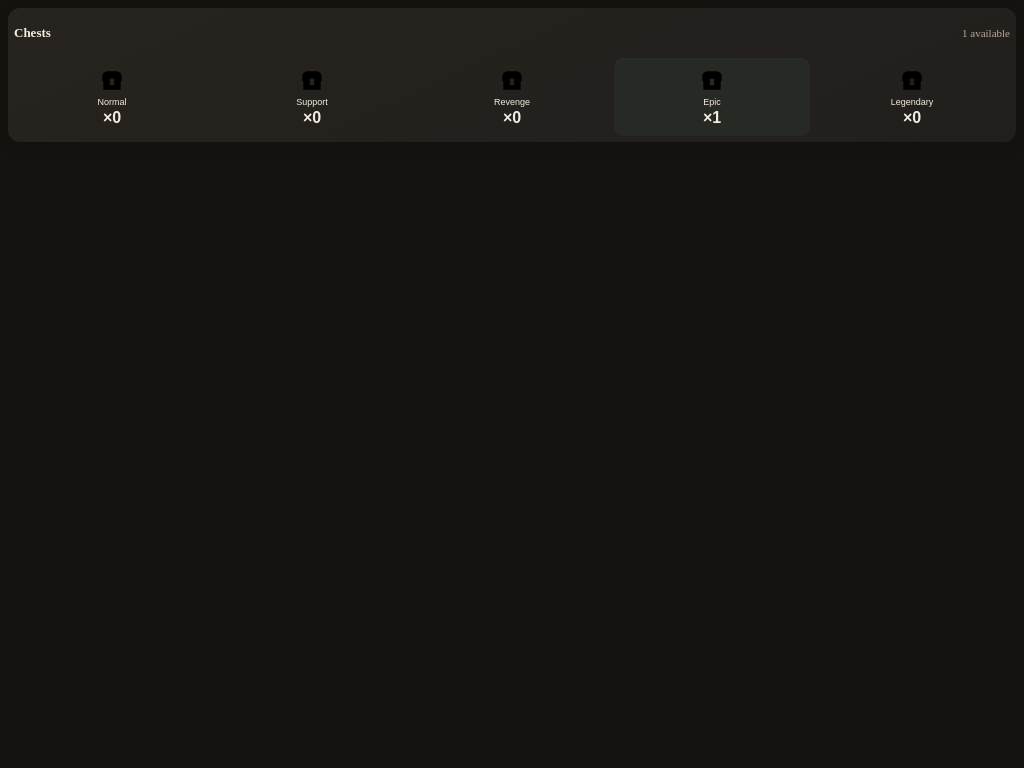
Test: opening failures are retryable and do not consume or hide the chest
This screenshot has width=1024, height=768.
Click the button named "Epic chest, 1 available" at (712, 97), box [614,58,810,136]
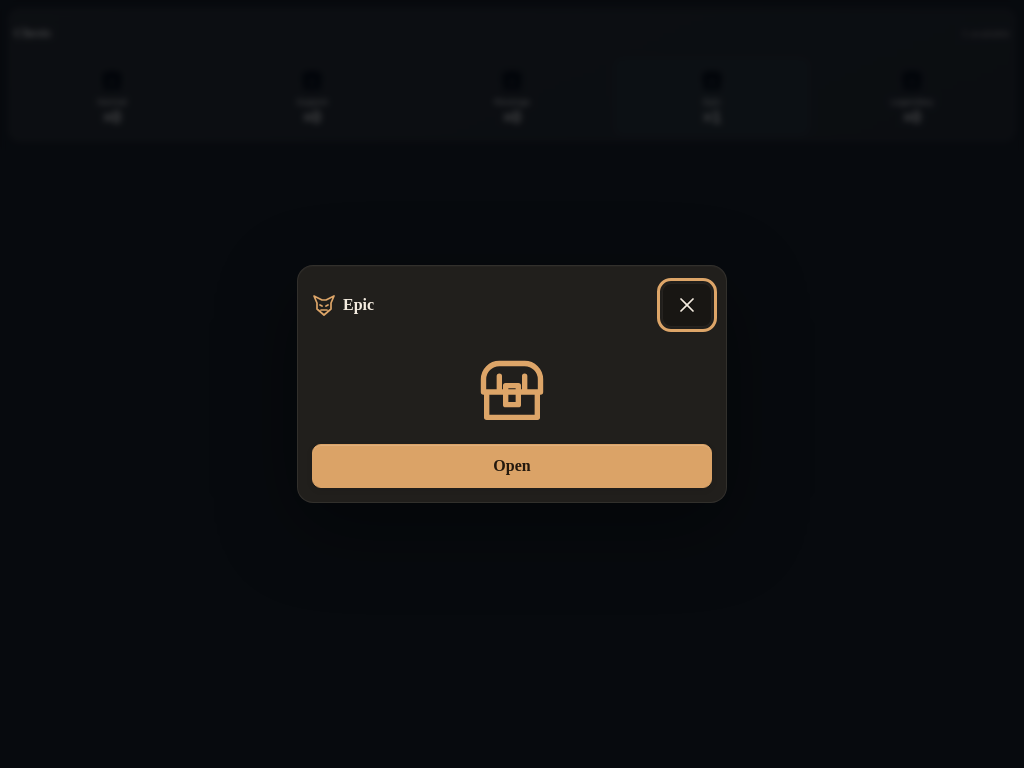
Click the button "Open" at (512, 466), box [312,444,712,488]
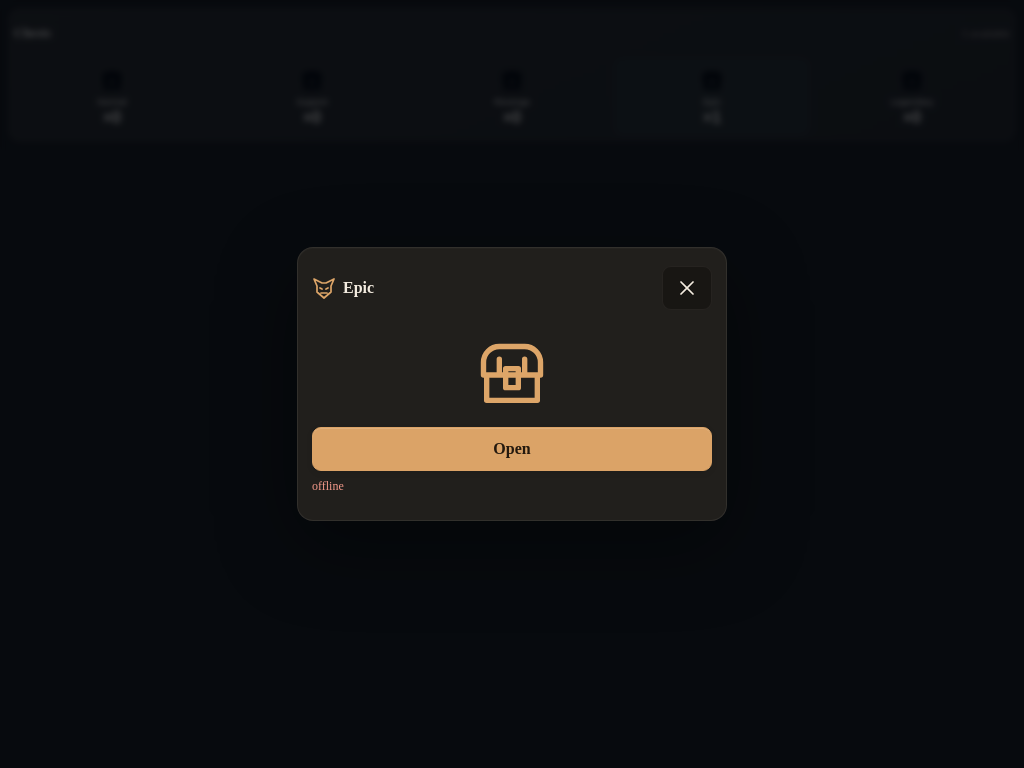
Check: the button "Open" is enabled, box [312,427,712,471]
Check: the message reads "offline", box [312,479,344,493]
